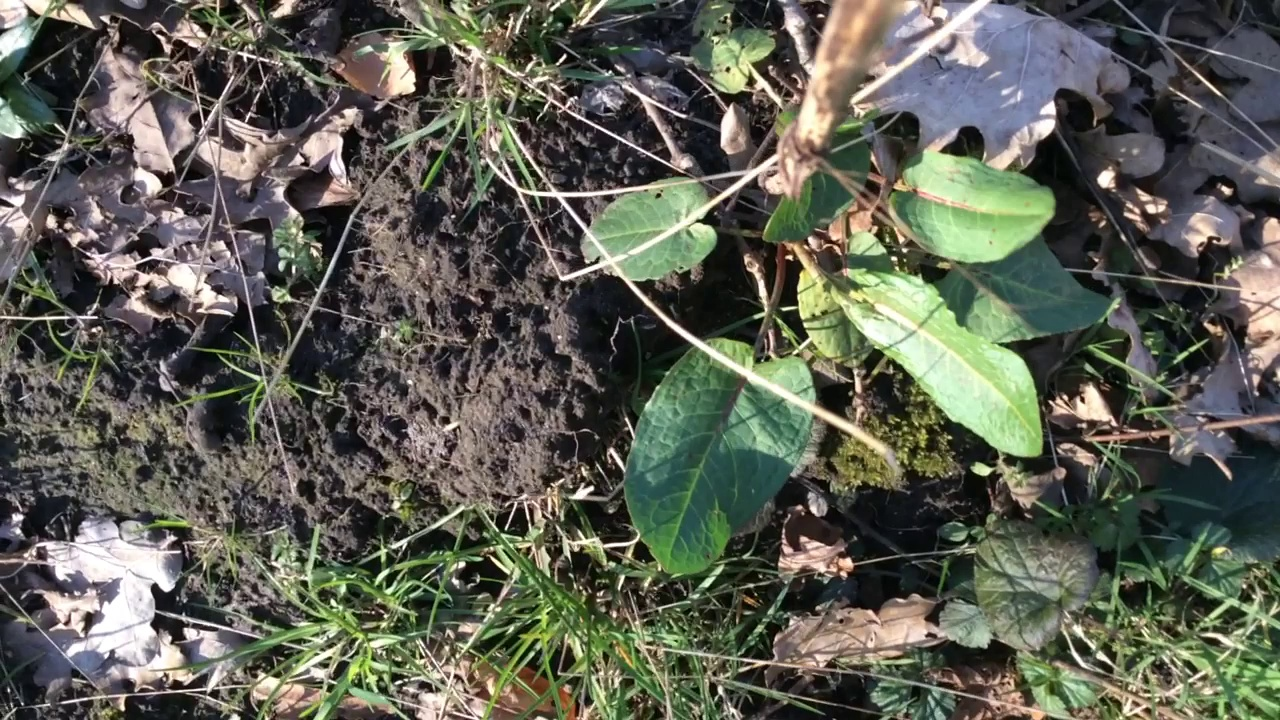rumex: (581, 1, 1118, 577)
